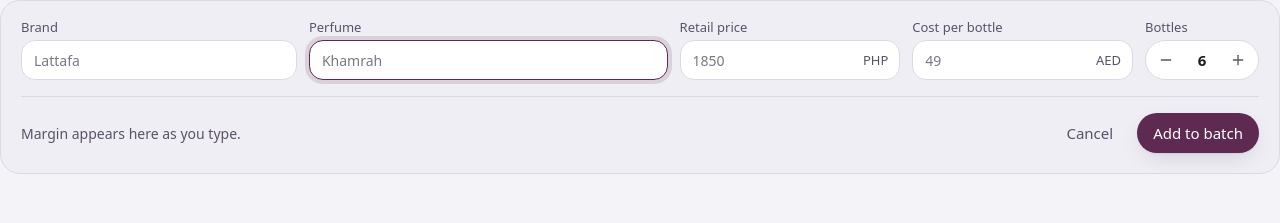
ItemForm › blocks submit and explains what's missing
Click the button "Add to batch".
click(1198, 133)  # box x1=1137 y1=113 x2=1259 y2=153
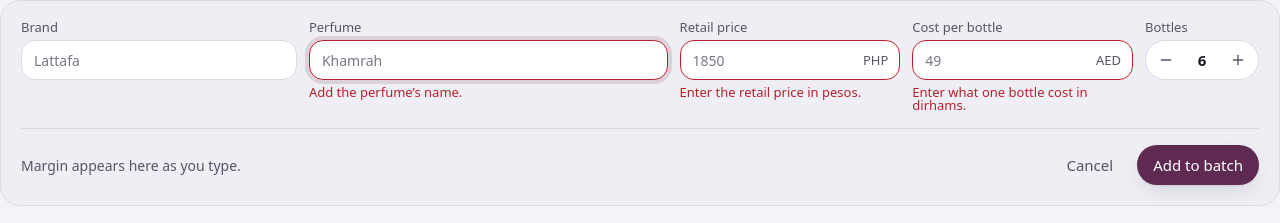
Now the text "Add the perfume’s name." is shown, box x1=309 y1=83 x2=462 y2=101
